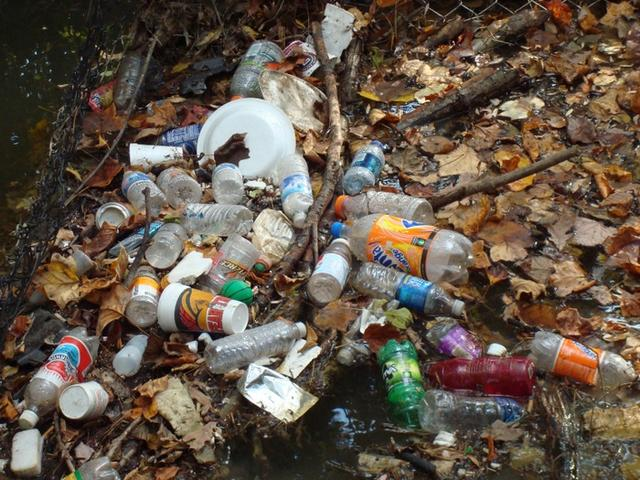garbage: (134, 160, 427, 372)
